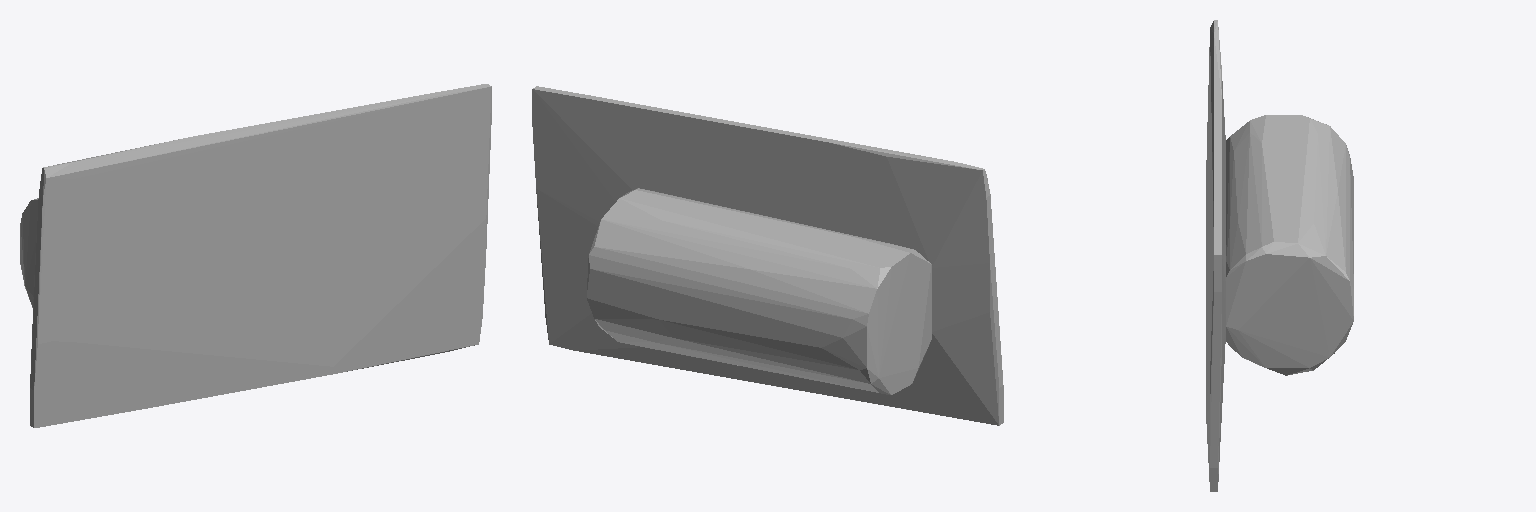
URDF robot description (root):
<robot name="root">
  <link name="link_kit_packaged~HerbSalt_800_tex_packaged_convex_piece_0">
    <inertial>
      <origin rpy="0 0 0" xyz="0 0 0"/>
      <mass value="1.75E-01"/>
      <inertia ixx="1.68E-04" ixy="-2.51E-05" ixz="-1.68E-05" iyy="4.52E-04" iyz="4.05E-06" izz="4.28E-04"/>
    </inertial>
    <visual>
      <origin rpy="0 0 0" xyz="0 0 0"/>
      <geometry>
        <mesh filename="kit_packaged~HerbSalt_800_tex_packaged_convex_piece_0.obj" scale="1.0000E+00 1.0000E+00 1.0000E+00"/>
      </geometry>
      <material name="">
        <color rgba="7.50E-01 7.50E-01 7.50E-01 1"/>
      </material>
    </visual>
    <collision>
      <origin rpy="0 0 0" xyz="0 0 0"/>
      <geometry>
        <mesh filename="kit_packaged~HerbSalt_800_tex_packaged_convex_piece_0.obj" scale="1.0000E+00 1.0000E+00 1.0000E+00"/>
      </geometry>
    </collision>
  </link>
  <link name="link_kit_packaged~HerbSalt_800_tex_packaged_convex_piece_1">
    <inertial>
      <origin rpy="0 0 0" xyz="0 0 0"/>
      <mass value="4.35E-01"/>
      <inertia ixx="1.14E-04" ixy="1.85E-07" ixz="-4.44E-06" iyy="4.25E-04" iyz="-1.12E-06" izz="4.18E-04"/>
    </inertial>
    <visual>
      <origin rpy="0 0 0" xyz="0 0 0"/>
      <geometry>
        <mesh filename="kit_packaged~HerbSalt_800_tex_packaged_convex_piece_1.obj" scale="1.0000E+00 1.0000E+00 1.0000E+00"/>
      </geometry>
      <material name="">
        <color rgba="7.50E-01 7.50E-01 7.50E-01 1"/>
      </material>
    </visual>
    <collision>
      <origin rpy="0 0 0" xyz="0 0 0"/>
      <geometry>
        <mesh filename="kit_packaged~HerbSalt_800_tex_packaged_convex_piece_1.obj" scale="1.0000E+00 1.0000E+00 1.0000E+00"/>
      </geometry>
    </collision>
  </link>
  <joint name="link_kit_packaged~HerbSalt_800_tex_packaged_convex_piece_1_joint" type="fixed">
    <origin rpy="0 0 0" xyz="0 0 0"/>
    <parent link="link_kit_packaged~HerbSalt_800_tex_packaged_convex_piece_0"/>
    <child link="link_kit_packaged~HerbSalt_800_tex_packaged_convex_piece_1"/>
  </joint>
</robot>

--- What the picture shows (computed from the rendered views, not written in the file) ---
3 views of the same robot in one strip: view 1: azimuth 30°, elevation 25°; view 2: azimuth 150°, elevation 25°; view 3: azimuth 270°, elevation 25° (orthographic).
Robot: root — 2 links, 1 joints (1 fixed); root link link_kit_packaged~HerbSalt_800_tex_packaged_convex_piece_0; default pose: all joints at 0.
Visible links, largest first — view 1: link_kit_packaged~HerbSalt_800_tex_packaged_convex_piece_0, link_kit_packaged~HerbSalt_800_tex_packaged_convex_piece_1; view 2: link_kit_packaged~HerbSalt_800_tex_packaged_convex_piece_0, link_kit_packaged~HerbSalt_800_tex_packaged_convex_piece_1; view 3: link_kit_packaged~HerbSalt_800_tex_packaged_convex_piece_1, link_kit_packaged~HerbSalt_800_tex_packaged_convex_piece_0.
Boxes of the visible links, x1,y1,x2,y2 form: link_kit_packaged~HerbSalt_800_tex_packaged_convex_piece_0: [30, 84, 491, 427]; link_kit_packaged~HerbSalt_800_tex_packaged_convex_piece_1: [20, 198, 38, 307]; link_kit_packaged~HerbSalt_800_tex_packaged_convex_piece_0: [532, 86, 1003, 425]; link_kit_packaged~HerbSalt_800_tex_packaged_convex_piece_1: [587, 188, 931, 394]; link_kit_packaged~HerbSalt_800_tex_packaged_convex_piece_1: [1226, 115, 1353, 375]; link_kit_packaged~HerbSalt_800_tex_packaged_convex_piece_0: [1206, 20, 1225, 491].
Bounding box of the posed robot: 0.165 × 0.0477 × 0.0954 m (x, y, z).
2 mesh visuals loaded from 2 distinct referenced files (2 OBJ).
